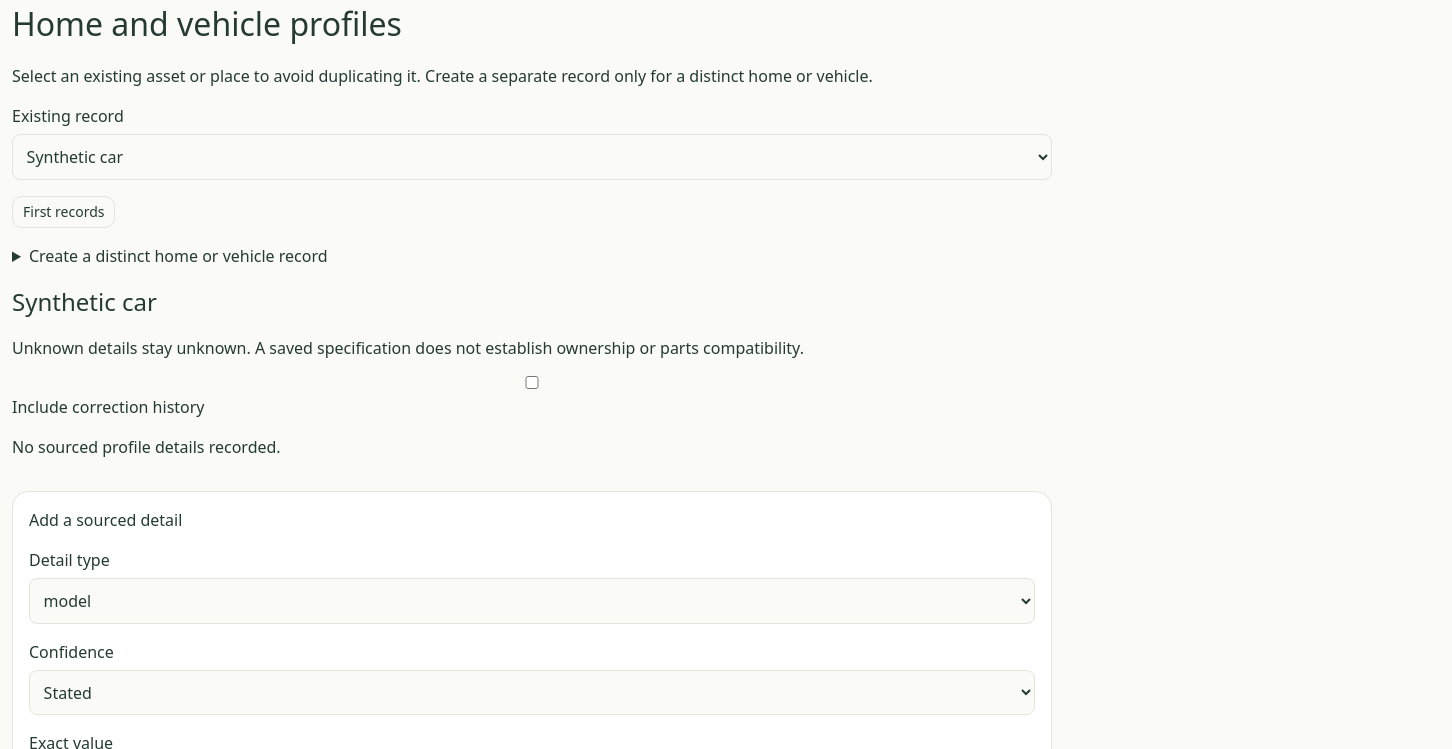
Test: creates a named sourced detail and displays its readable correction action
expect the heading "Synthetic car" is shown: met, box [12, 285, 157, 318]
Select "Custom detail" in the dropdown labelled "Detail type". click: point(532, 601)
box: [29, 578, 1035, 624]
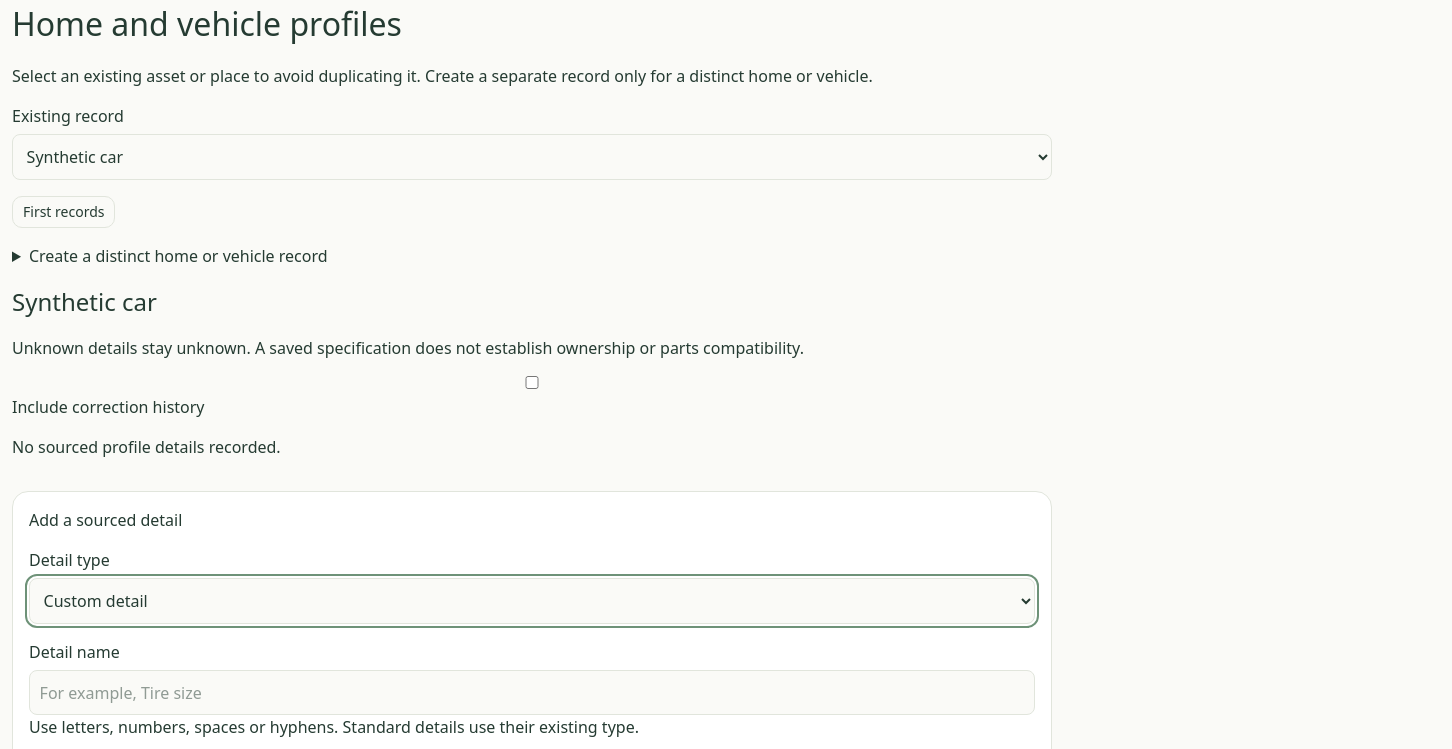
Type "Tire size" into the field labelled "Detail name". click: point(532, 692)
box: [29, 670, 1035, 715]
(page scrolled)
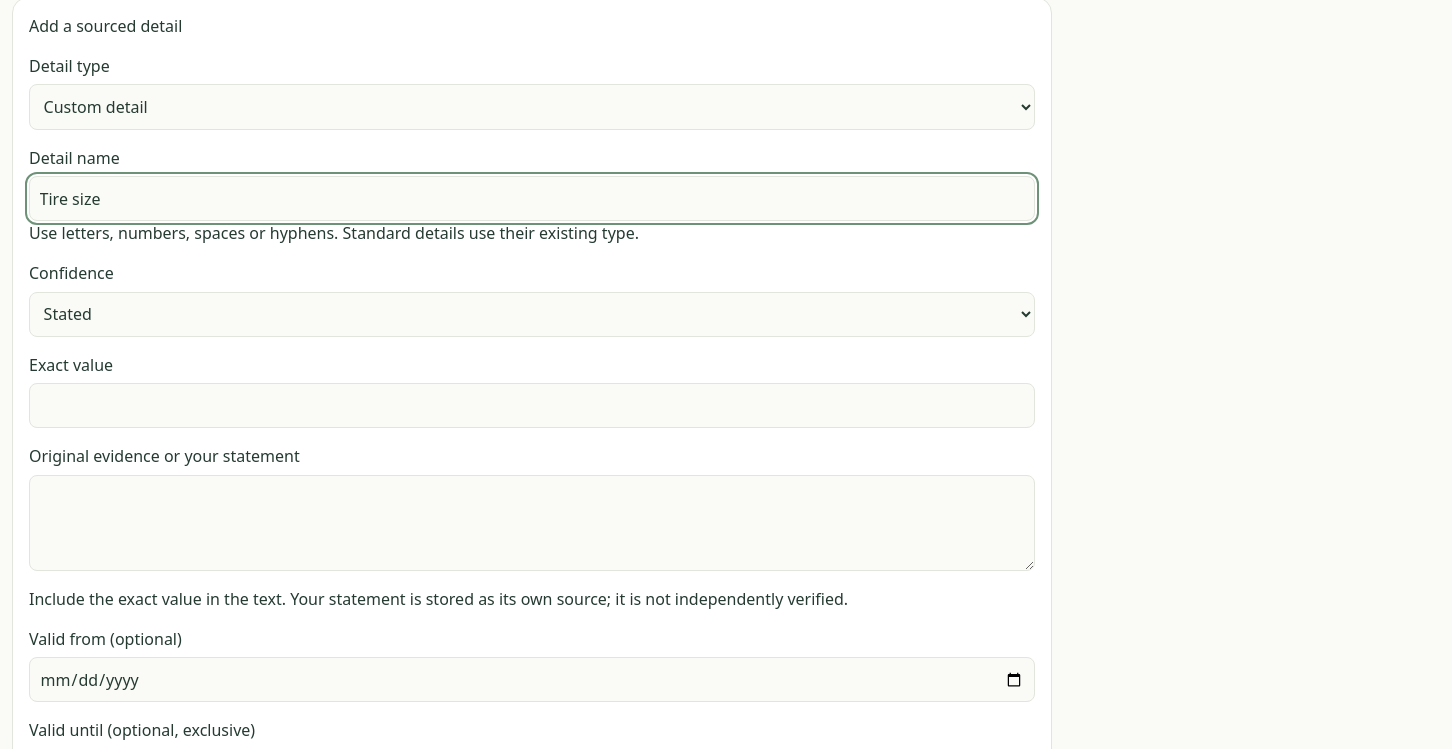
Type "205/55R16" into the field labelled "Exact value". click: point(532, 406)
box: [29, 383, 1035, 428]
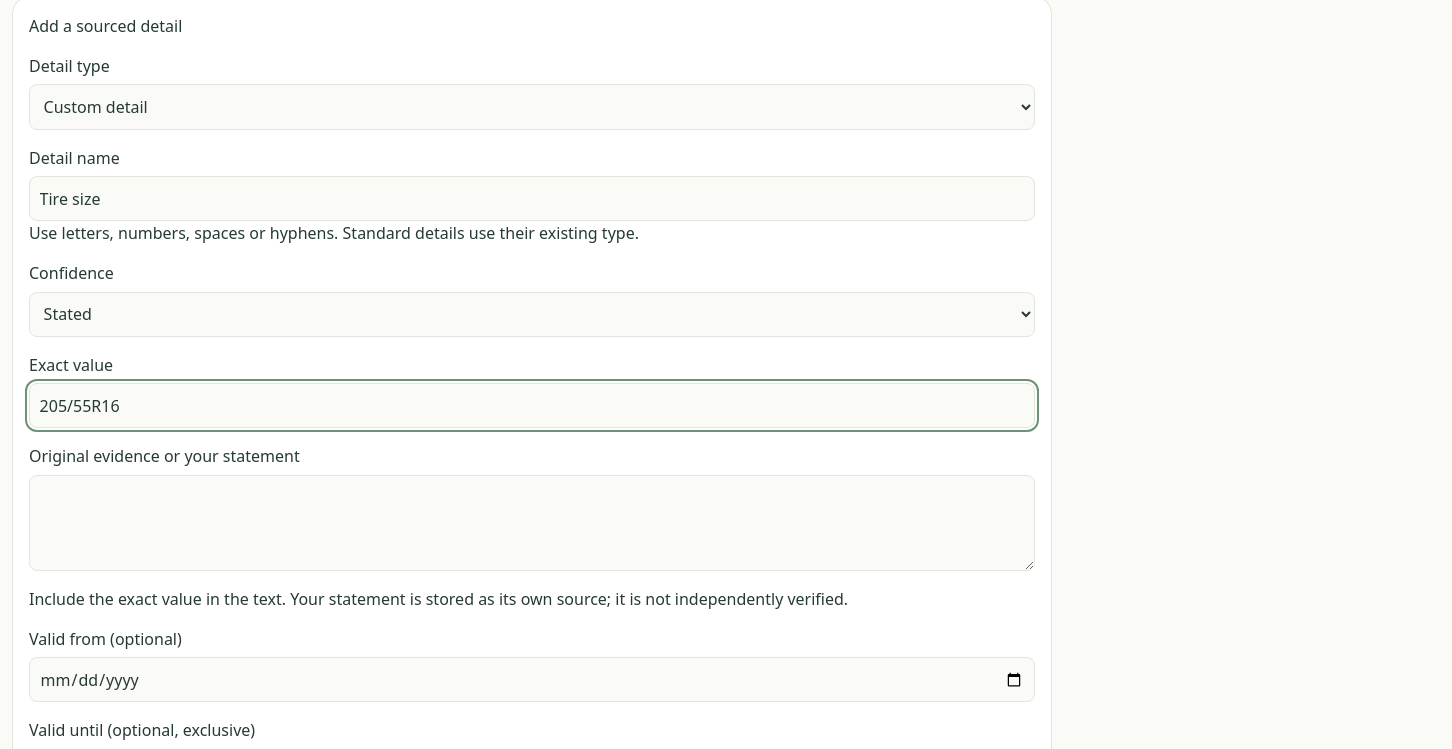
Type "Synthetic tire label 205/55R16." into the text box labelled "Original evidence or your statement". click: point(532, 523)
box: [29, 475, 1035, 571]
(page scrolled)
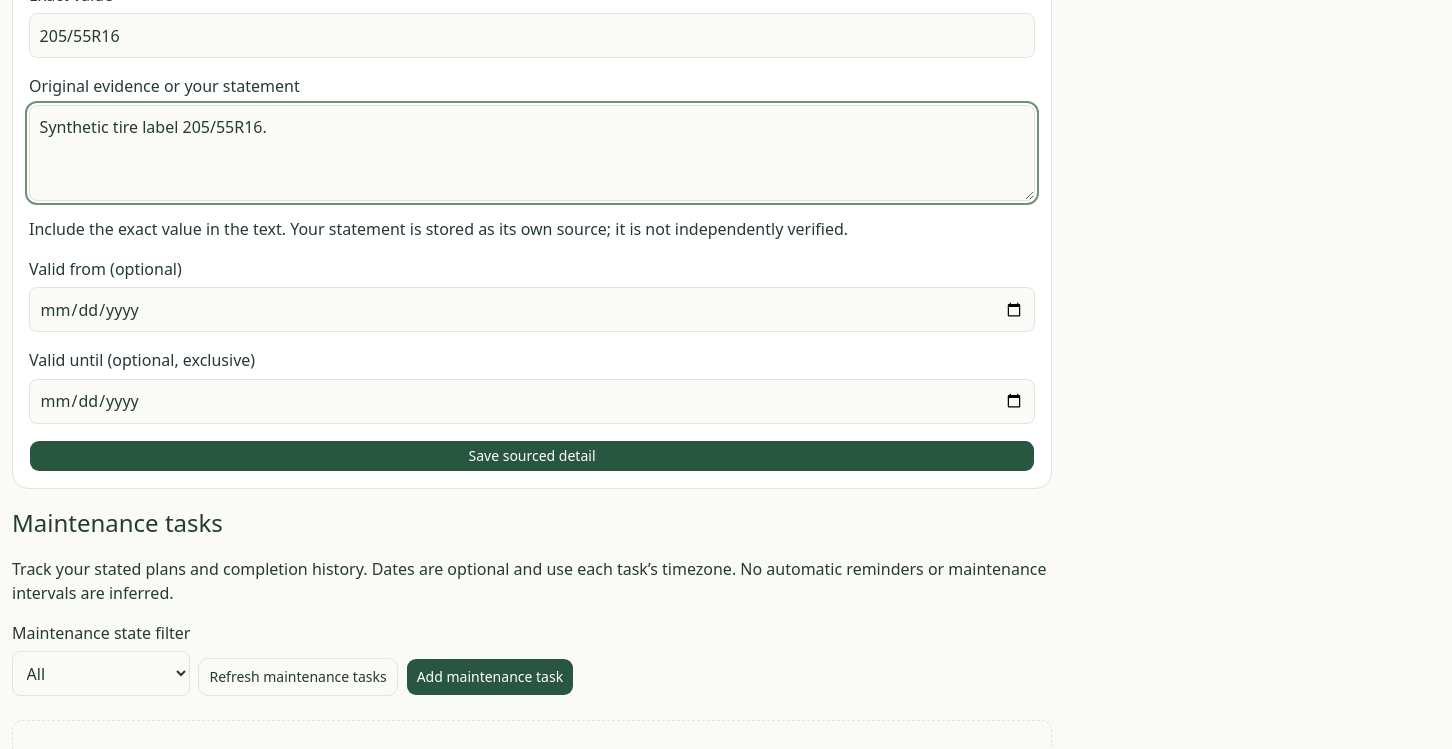
Click the button "Save sourced detail". click: point(532, 456)
box: [29, 440, 1035, 472]
(page scrolled)
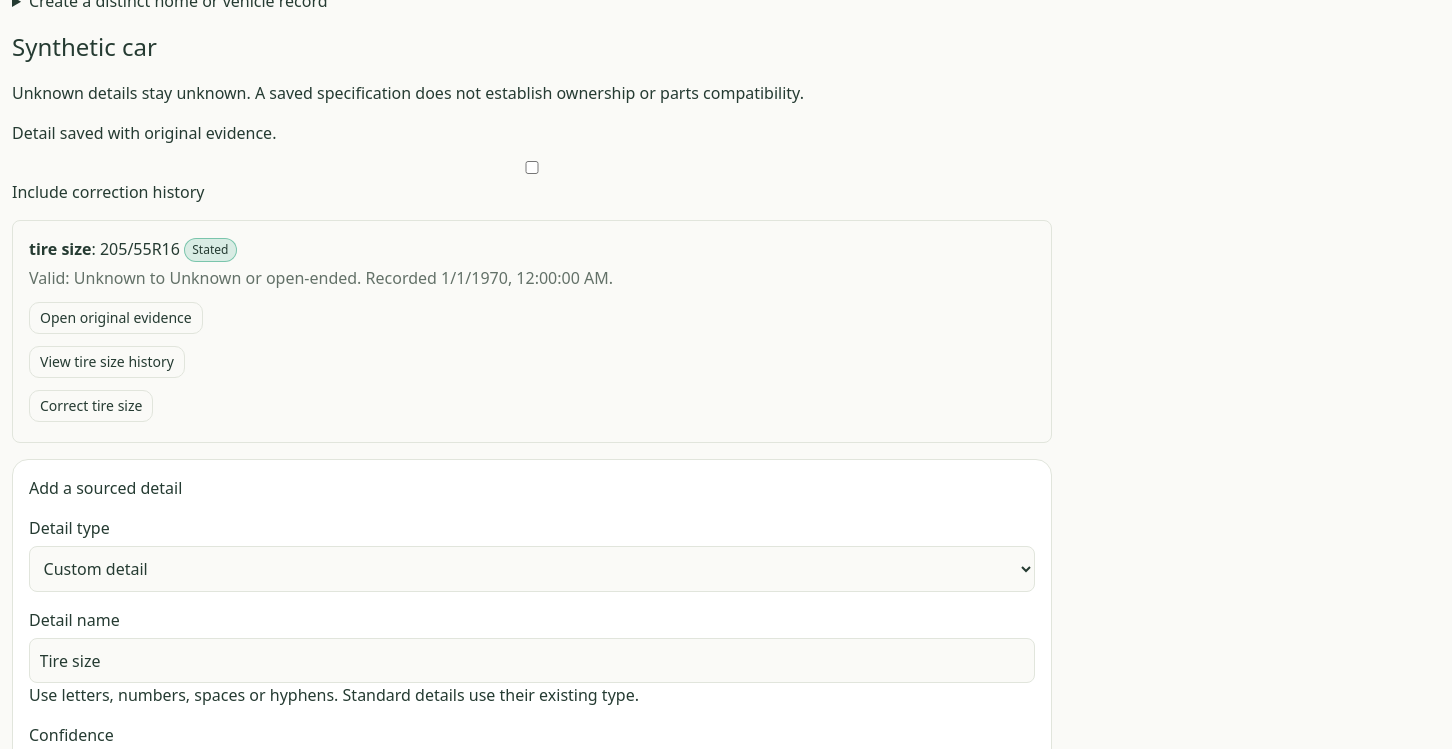
expect the button "Correct tire size" is shown: met, box [29, 390, 153, 422]
